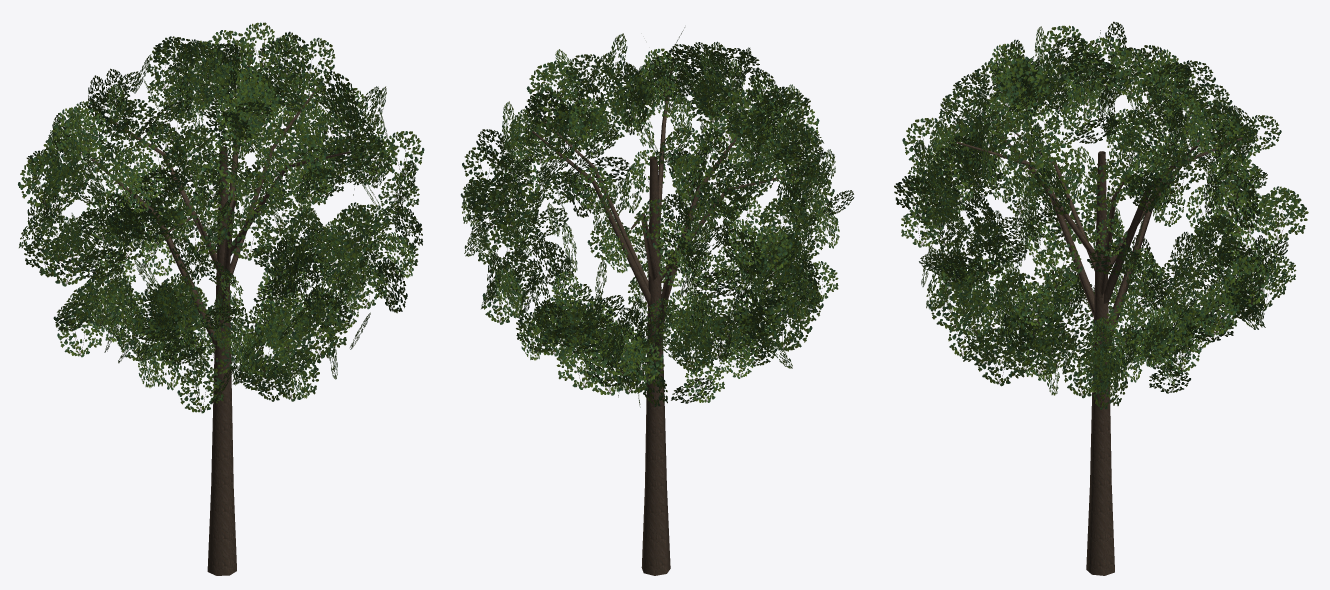
Rendered from tpl_yard_old_yard_elm.glb.
3 views of the same model, side by side, from view 1: azimuth 30°, elevation 25°; view 2: azimuth 150°, elevation 25°; view 3: azimuth 270°, elevation 25° (orthographic). The views are drawn at different scales.
Visible parts, largest first — view 1: tpl_yard_old_yard_elm; view 2: tpl_yard_old_yard_elm; view 3: tpl_yard_old_yard_elm.
Boxes of the visible parts, x1=… form: tpl_yard_old_yard_elm: x1=18, y1=22, x2=424, y2=575; tpl_yard_old_yard_elm: x1=460, y1=27, x2=854, y2=575; tpl_yard_old_yard_elm: x1=894, y1=21, x2=1308, y2=575.
Bounding box in the file's own units: 13.84 × 19.75 × 14.53.
2 materials, 2 textured.
